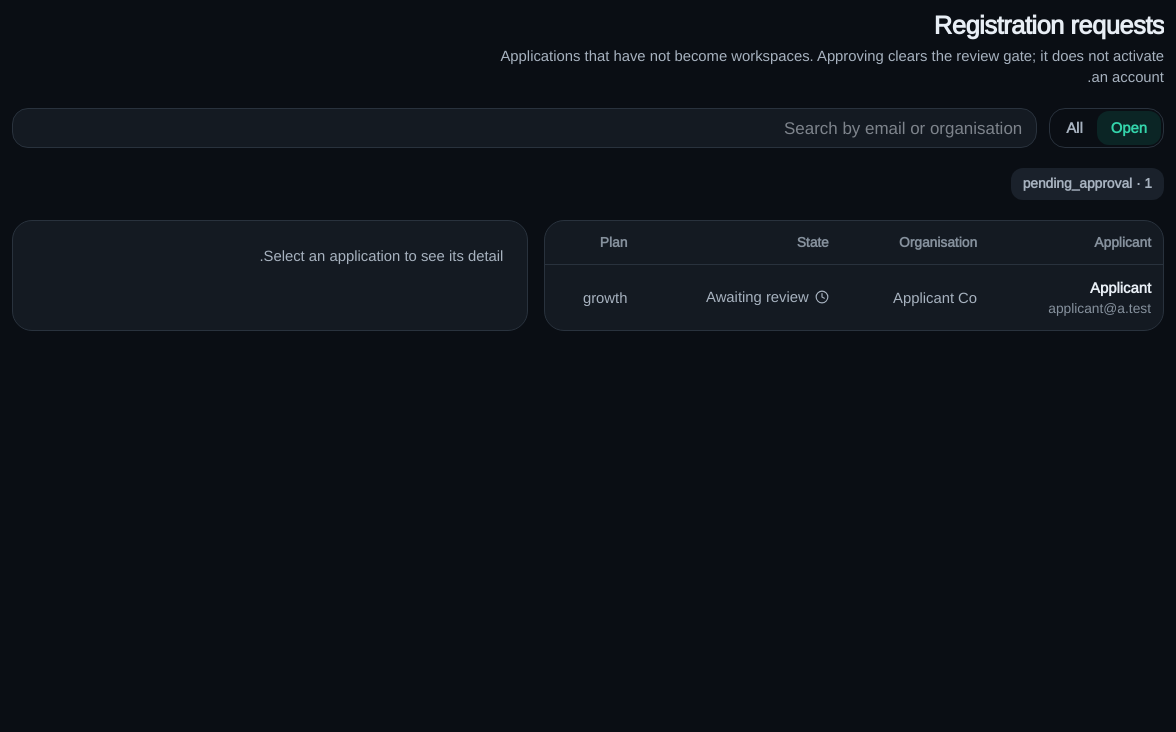
Test: RegistrationsPage › offers no way to activate an account directly
Click the row with test id "registration-row": (1120, 288) 545,265 -> 1163,330
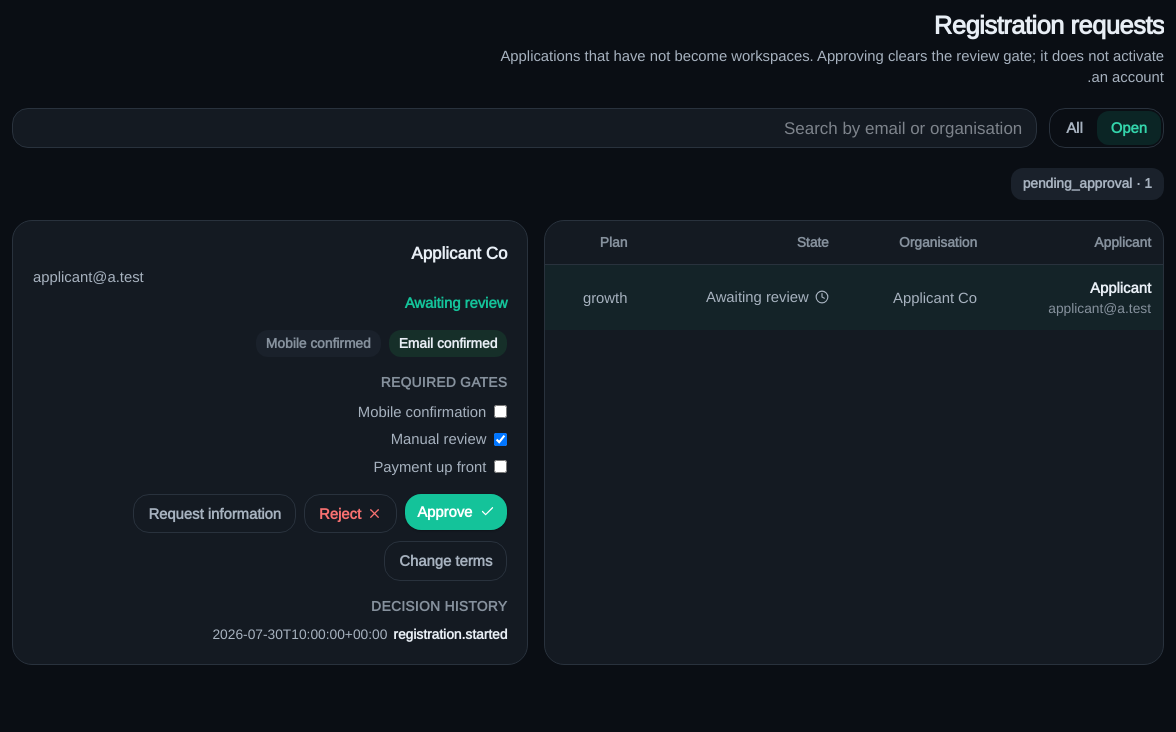
Expected: the element with test id "registration-detail" is shown, 12,220 -> 528,665
Expected: the button with test id "registration-approve" is shown, 405,494 -> 507,530
